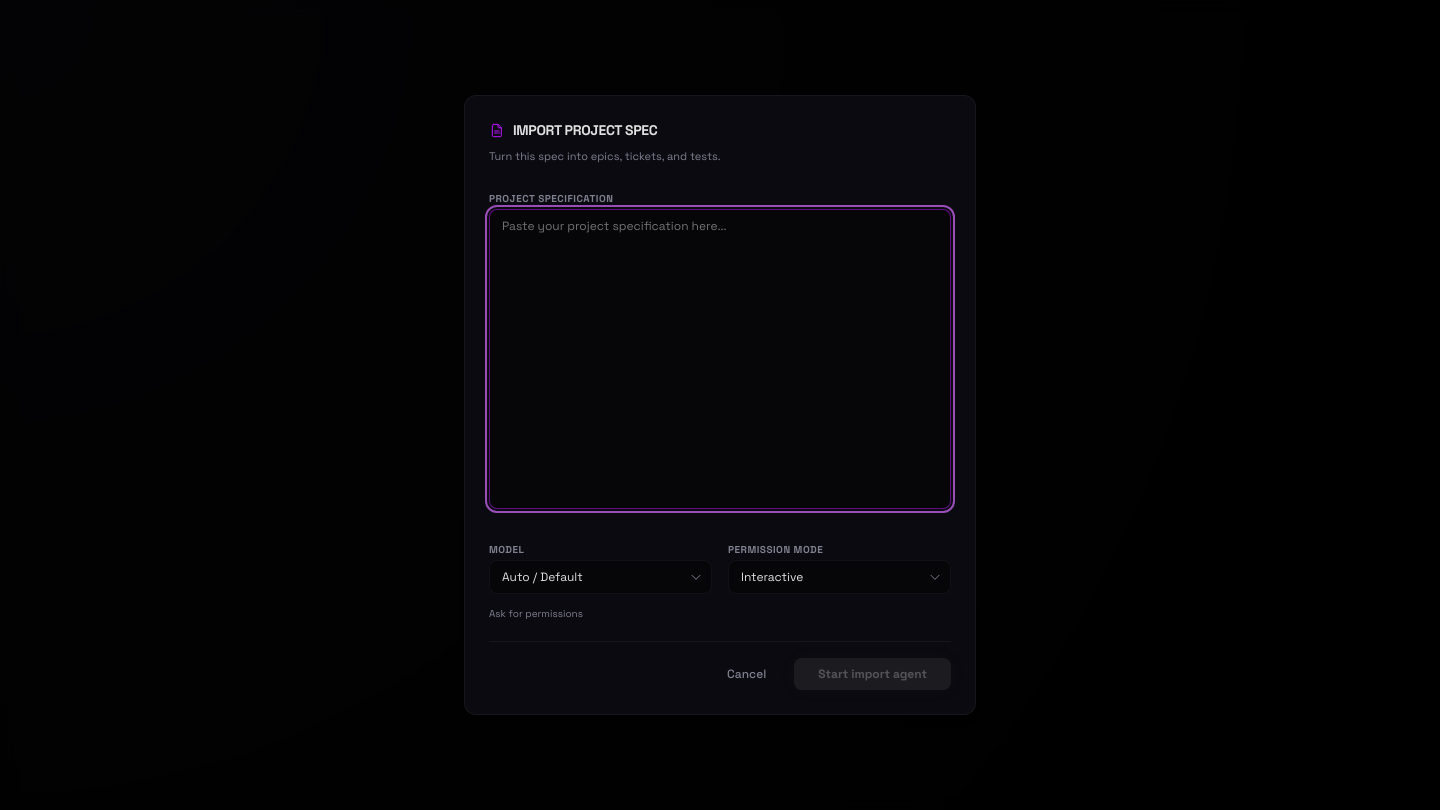
ImportSpecDialog › shows loading state during import and disables double-click
The image size is (1440, 810).
Type "Build a todo app" into the text box with placeholder "Paste your project specification here..." at (720, 359), box [489, 209, 951, 509]
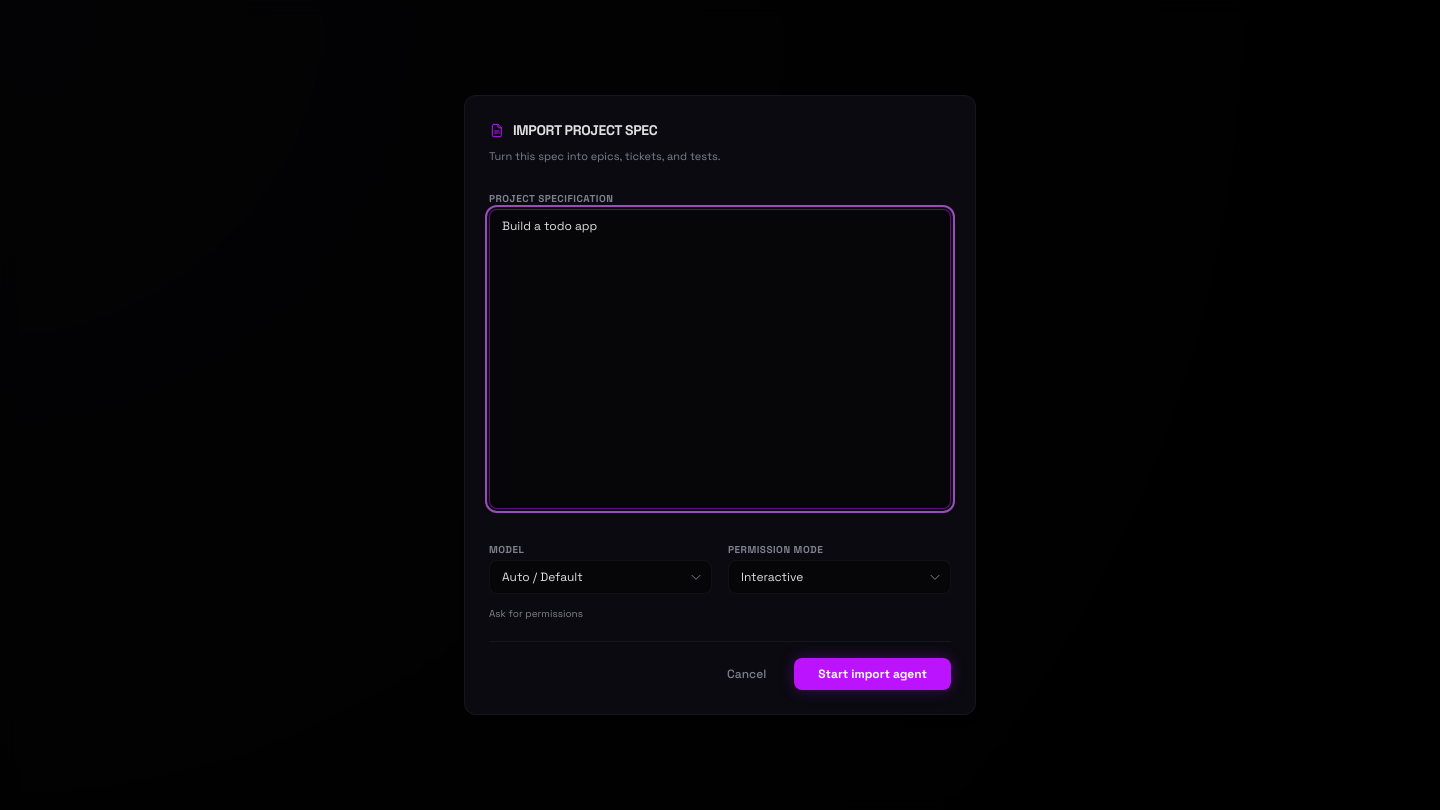
Click the button "Start import agent" at (873, 674), box [794, 658, 951, 690]
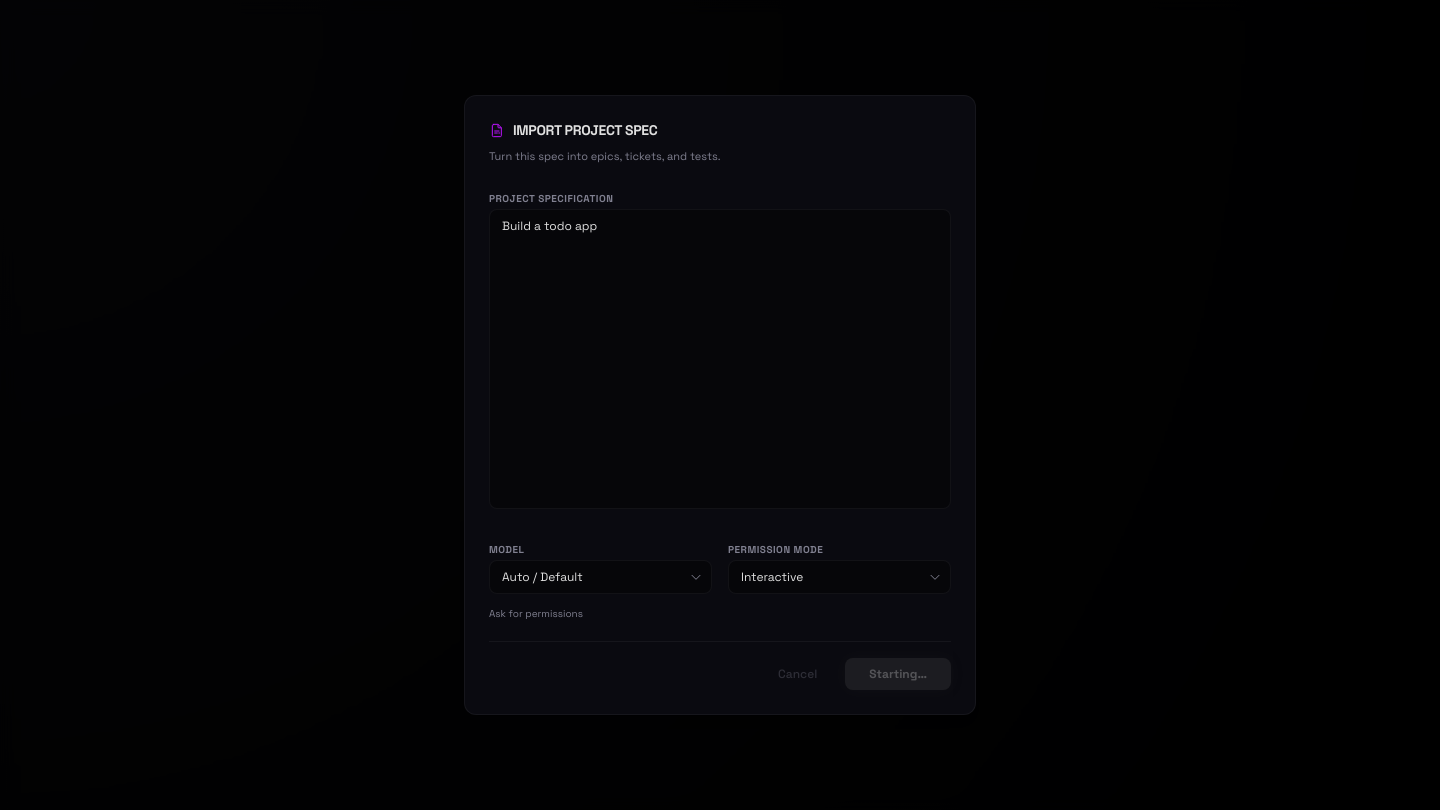
Check: the button "Starting…" is disabled, box [845, 658, 951, 690]
